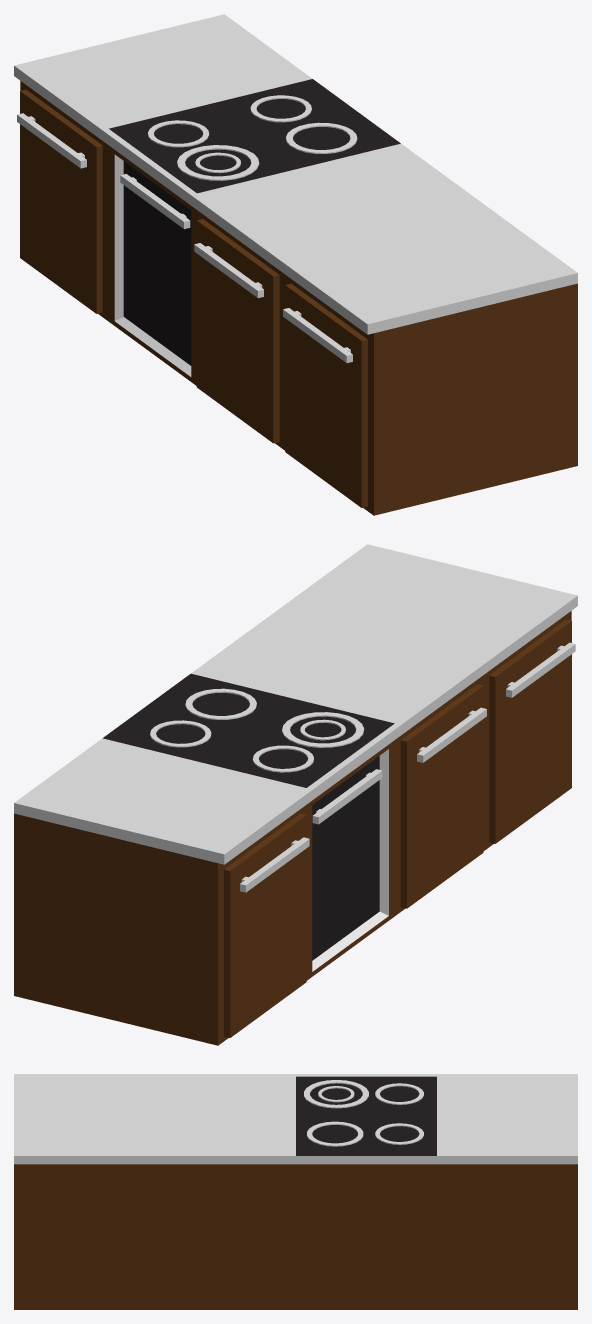
The model's file is Kitchen table 1.fbx.
The picture shows the model from 3 angles, top to bottom: view 1: azimuth 30°, elevation 25°; view 2: azimuth 150°, elevation 25°; view 3: azimuth 270°, elevation 25°; orthographic projection. The views are drawn at different scales.
Visible parts, largest first — view 1: Kitchen table 1; view 2: Kitchen table 1; view 3: Kitchen table 1.
Boxes of the visible parts, x1,y1,x2,y2 form: Kitchen table 1: (14,14,577,515); Kitchen table 1: (14,544,577,1045); Kitchen table 1: (14,1074,577,1309).
Bounding box in the file's own units: 191 × 162 × 534.
